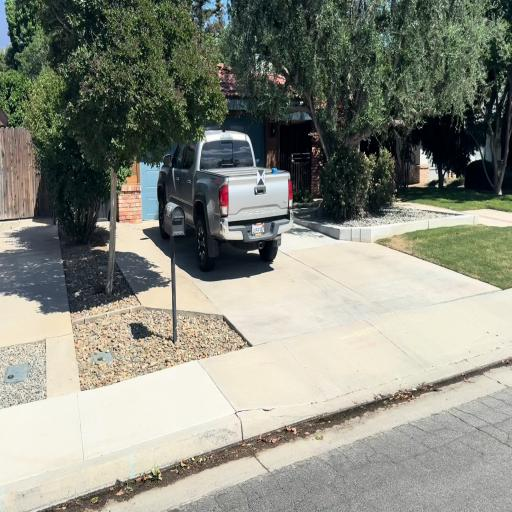target1: (257, 170, 265, 184)
